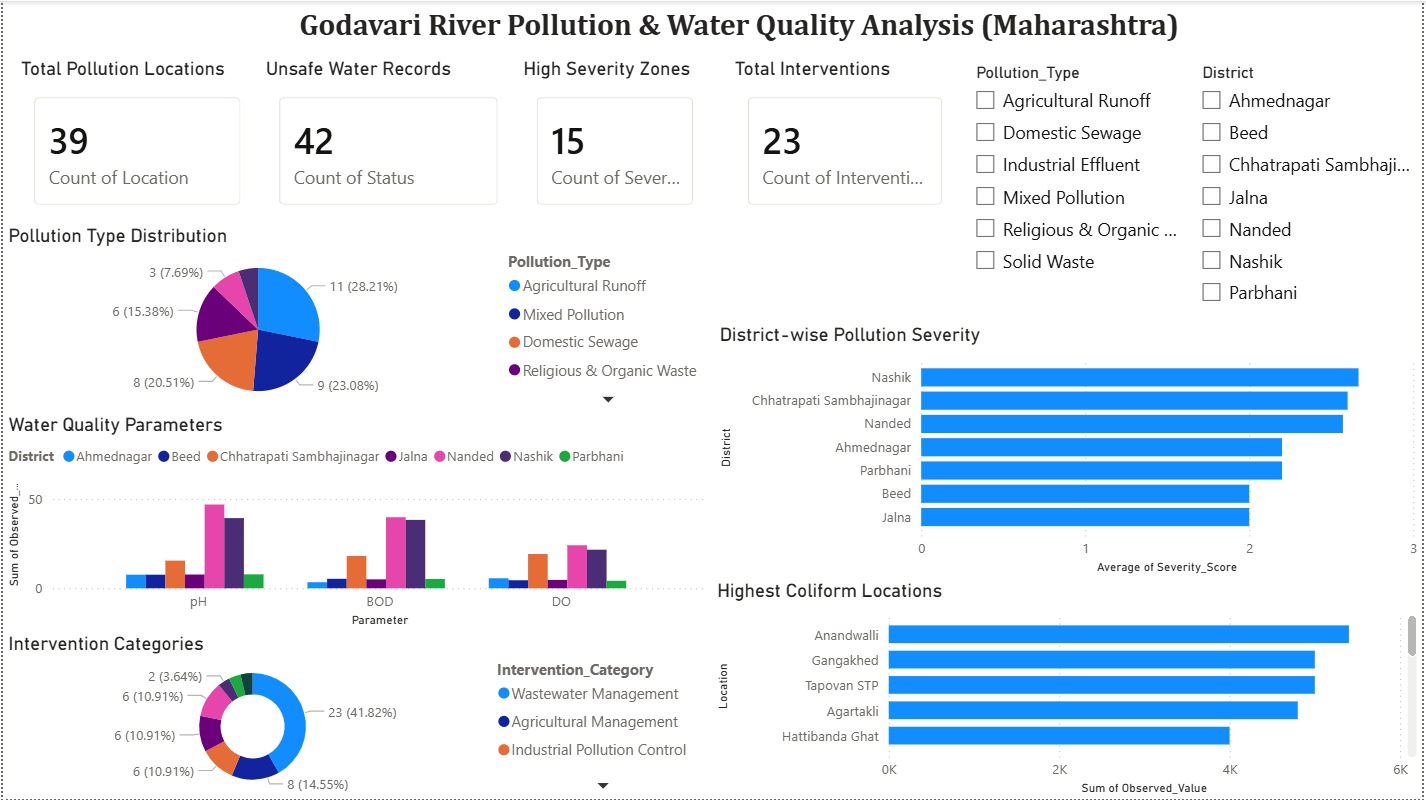

The page's visual inventory and layout, read from the dashboard file:
{"tool":"powerbi","page":{"name":"Page 1","canvas":[1280,720],"ordinal":0},"visuals":[{"type":"pieChart","title":"Pollution Type Distribution","fields":{"Category":["pollution_sources.Pollution_Type"],"Y":["Sum(pollution_sources.Pollution_Count)"]},"box":[0,201.7,639.5,170.2],"z":0},{"type":"clusteredBarChart","title":"District-wise Pollution Severity","fields":{"Category":["pollution_sources.District"],"Y":["Avg(pollution_sources.Severity_Score)"]},"box":[640.8,290.9,639.5,230.5],"z":1000},{"type":"clusteredColumnChart","title":"Water Quality Parameters","fields":{"Category":["water_quality.Parameter"],"Y":["Sum(water_quality.Observed_Value)"],"Series":["water_quality.District"]},"box":[0,371.9,639.5,197.6],"z":2000},{"type":"clusteredBarChart","title":"Highest Coliform Locations","fields":{"Category":["water_quality.Location"],"Y":["Sum(water_quality.Observed_Value)"]},"box":[639.5,521.4,640.8,199],"z":3000},{"type":"donutChart","title":"Intervention Categories","fields":{"Category":["interventions.Intervention_Category"],"Y":["Sum(interventions.Priority_Score)"]},"box":[0,569.5,639.5,150.9],"z":4000},{"type":"slicer","fields":{"Values":["pollution_sources.District"]},"box":[1069,50.8,211.3,240.1],"z":5000},{"type":"slicer","fields":{"Values":["pollution_sources.Pollution_Type"]},"box":[864.5,50.8,204.5,203.1],"z":6000},{"type":"cardVisual","title":"Total Pollution Locations","fields":{"Data":["Count(pollution_sources.Location)"]},"box":[11,50.8,220.9,150.9],"z":7000},{"type":"cardVisual","title":"Unsafe Water Records","fields":{"Data":["CountNonNull(water_quality.Status)"]},"box":[231.9,50.8,231.9,150.9],"z":8000},{"type":"cardVisual","title":"High Severity Zones","fields":{"Data":["CountNonNull(pollution_sources.Severity)"]},"box":[463.8,50.8,175.6,150.9],"z":9000},{"type":"cardVisual","title":"Total Interventions","fields":{"Data":["CountNonNull(interventions.Intervention)"]},"box":[654.5,50.8,209.9,150.9],"z":10000},{"type":"textbox","box":[251.1,0,824.7,50.8],"z":11000}]}

Visuals, with their boxes in screenshot pixels (x1, y1, x2, y2), scaled from the page's 1280x720 canvas onto the 1426x802 screenshot:
"Pollution Type Distribution" pieChart: {"x1": 0, "y1": 225, "x2": 712, "y2": 414}
"District-wise Pollution Severity" clusteredBarChart: {"x1": 714, "y1": 324, "x2": 1425, "y2": 581}
"Water Quality Parameters" clusteredColumnChart: {"x1": 0, "y1": 414, "x2": 712, "y2": 634}
"Highest Coliform Locations" clusteredBarChart: {"x1": 712, "y1": 581, "x2": 1425, "y2": 801}
"Intervention Categories" donutChart: {"x1": 0, "y1": 634, "x2": 712, "y2": 801}
slicer - pollution_sources.District: {"x1": 1191, "y1": 57, "x2": 1425, "y2": 324}
slicer - pollution_sources.Pollution_Type: {"x1": 963, "y1": 57, "x2": 1191, "y2": 283}
"Total Pollution Locations" cardVisual: {"x1": 12, "y1": 57, "x2": 258, "y2": 225}
"Unsafe Water Records" cardVisual: {"x1": 258, "y1": 57, "x2": 517, "y2": 225}
"High Severity Zones" cardVisual: {"x1": 517, "y1": 57, "x2": 712, "y2": 225}
"Total Interventions" cardVisual: {"x1": 729, "y1": 57, "x2": 963, "y2": 225}
textbox: {"x1": 280, "y1": 0, "x2": 1199, "y2": 57}
